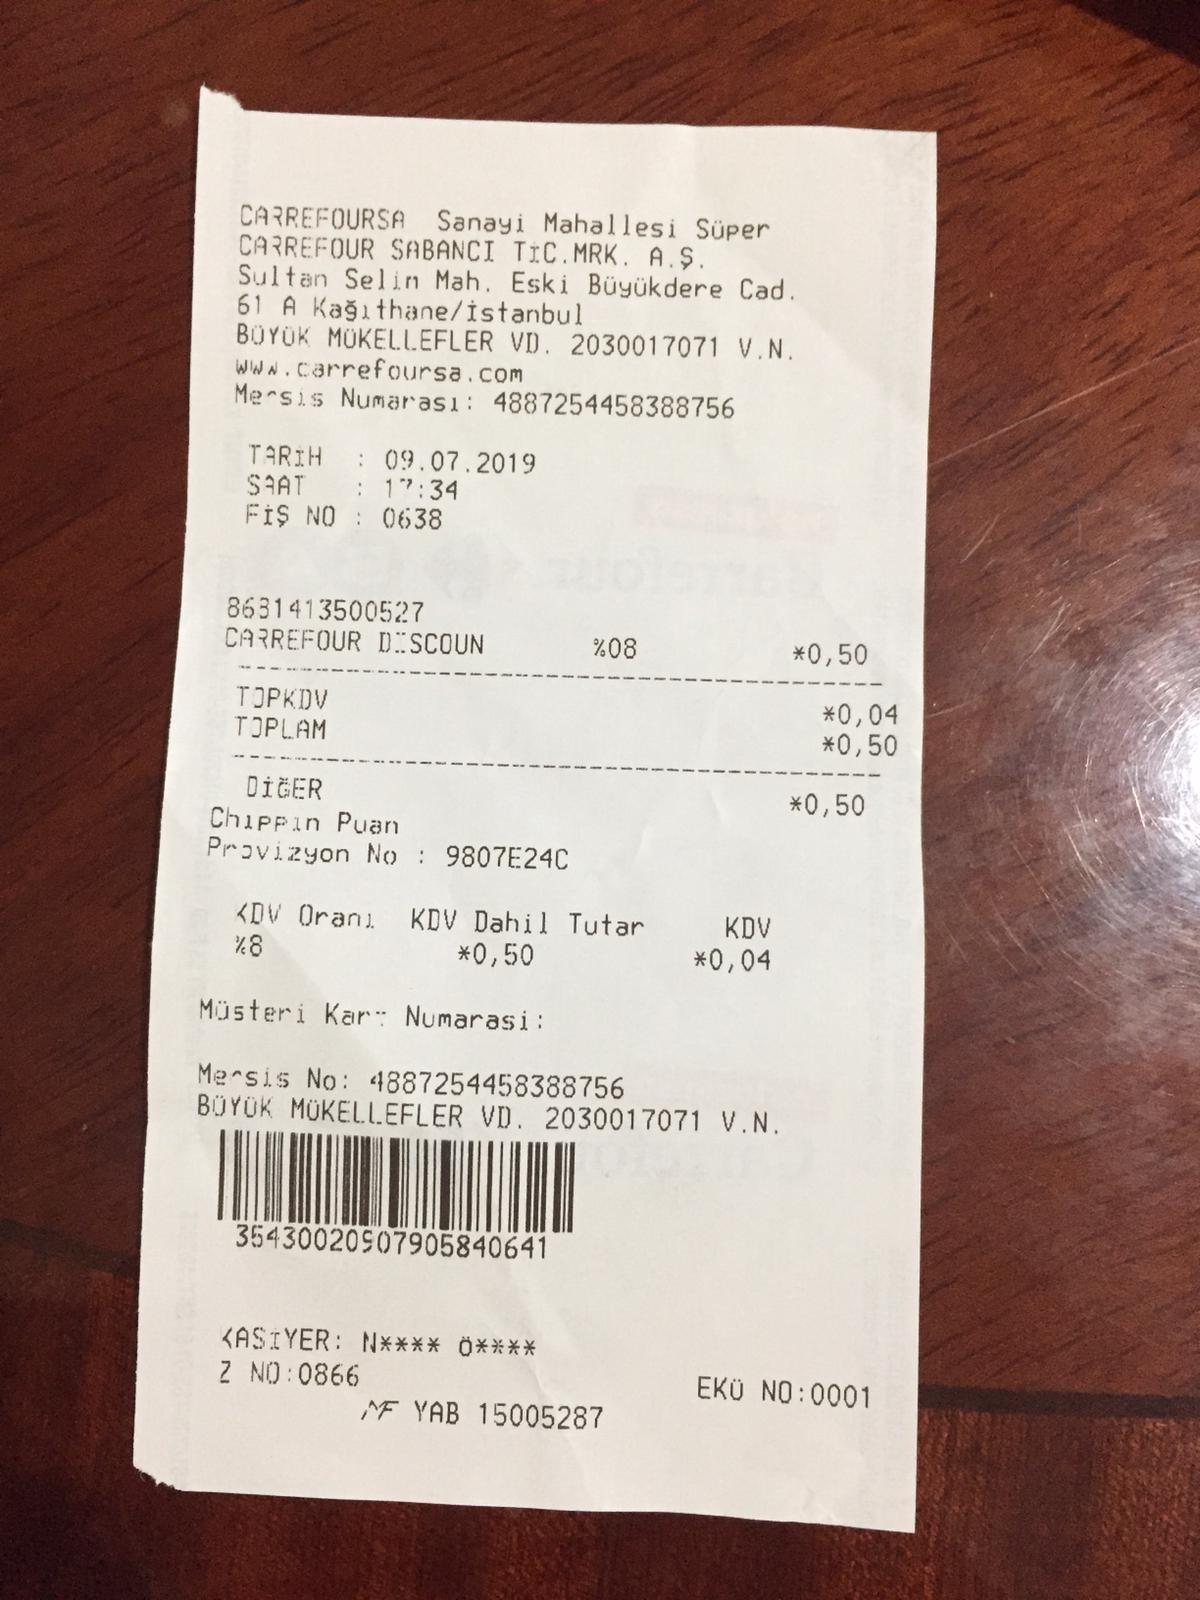total: (228, 710, 916, 757)
